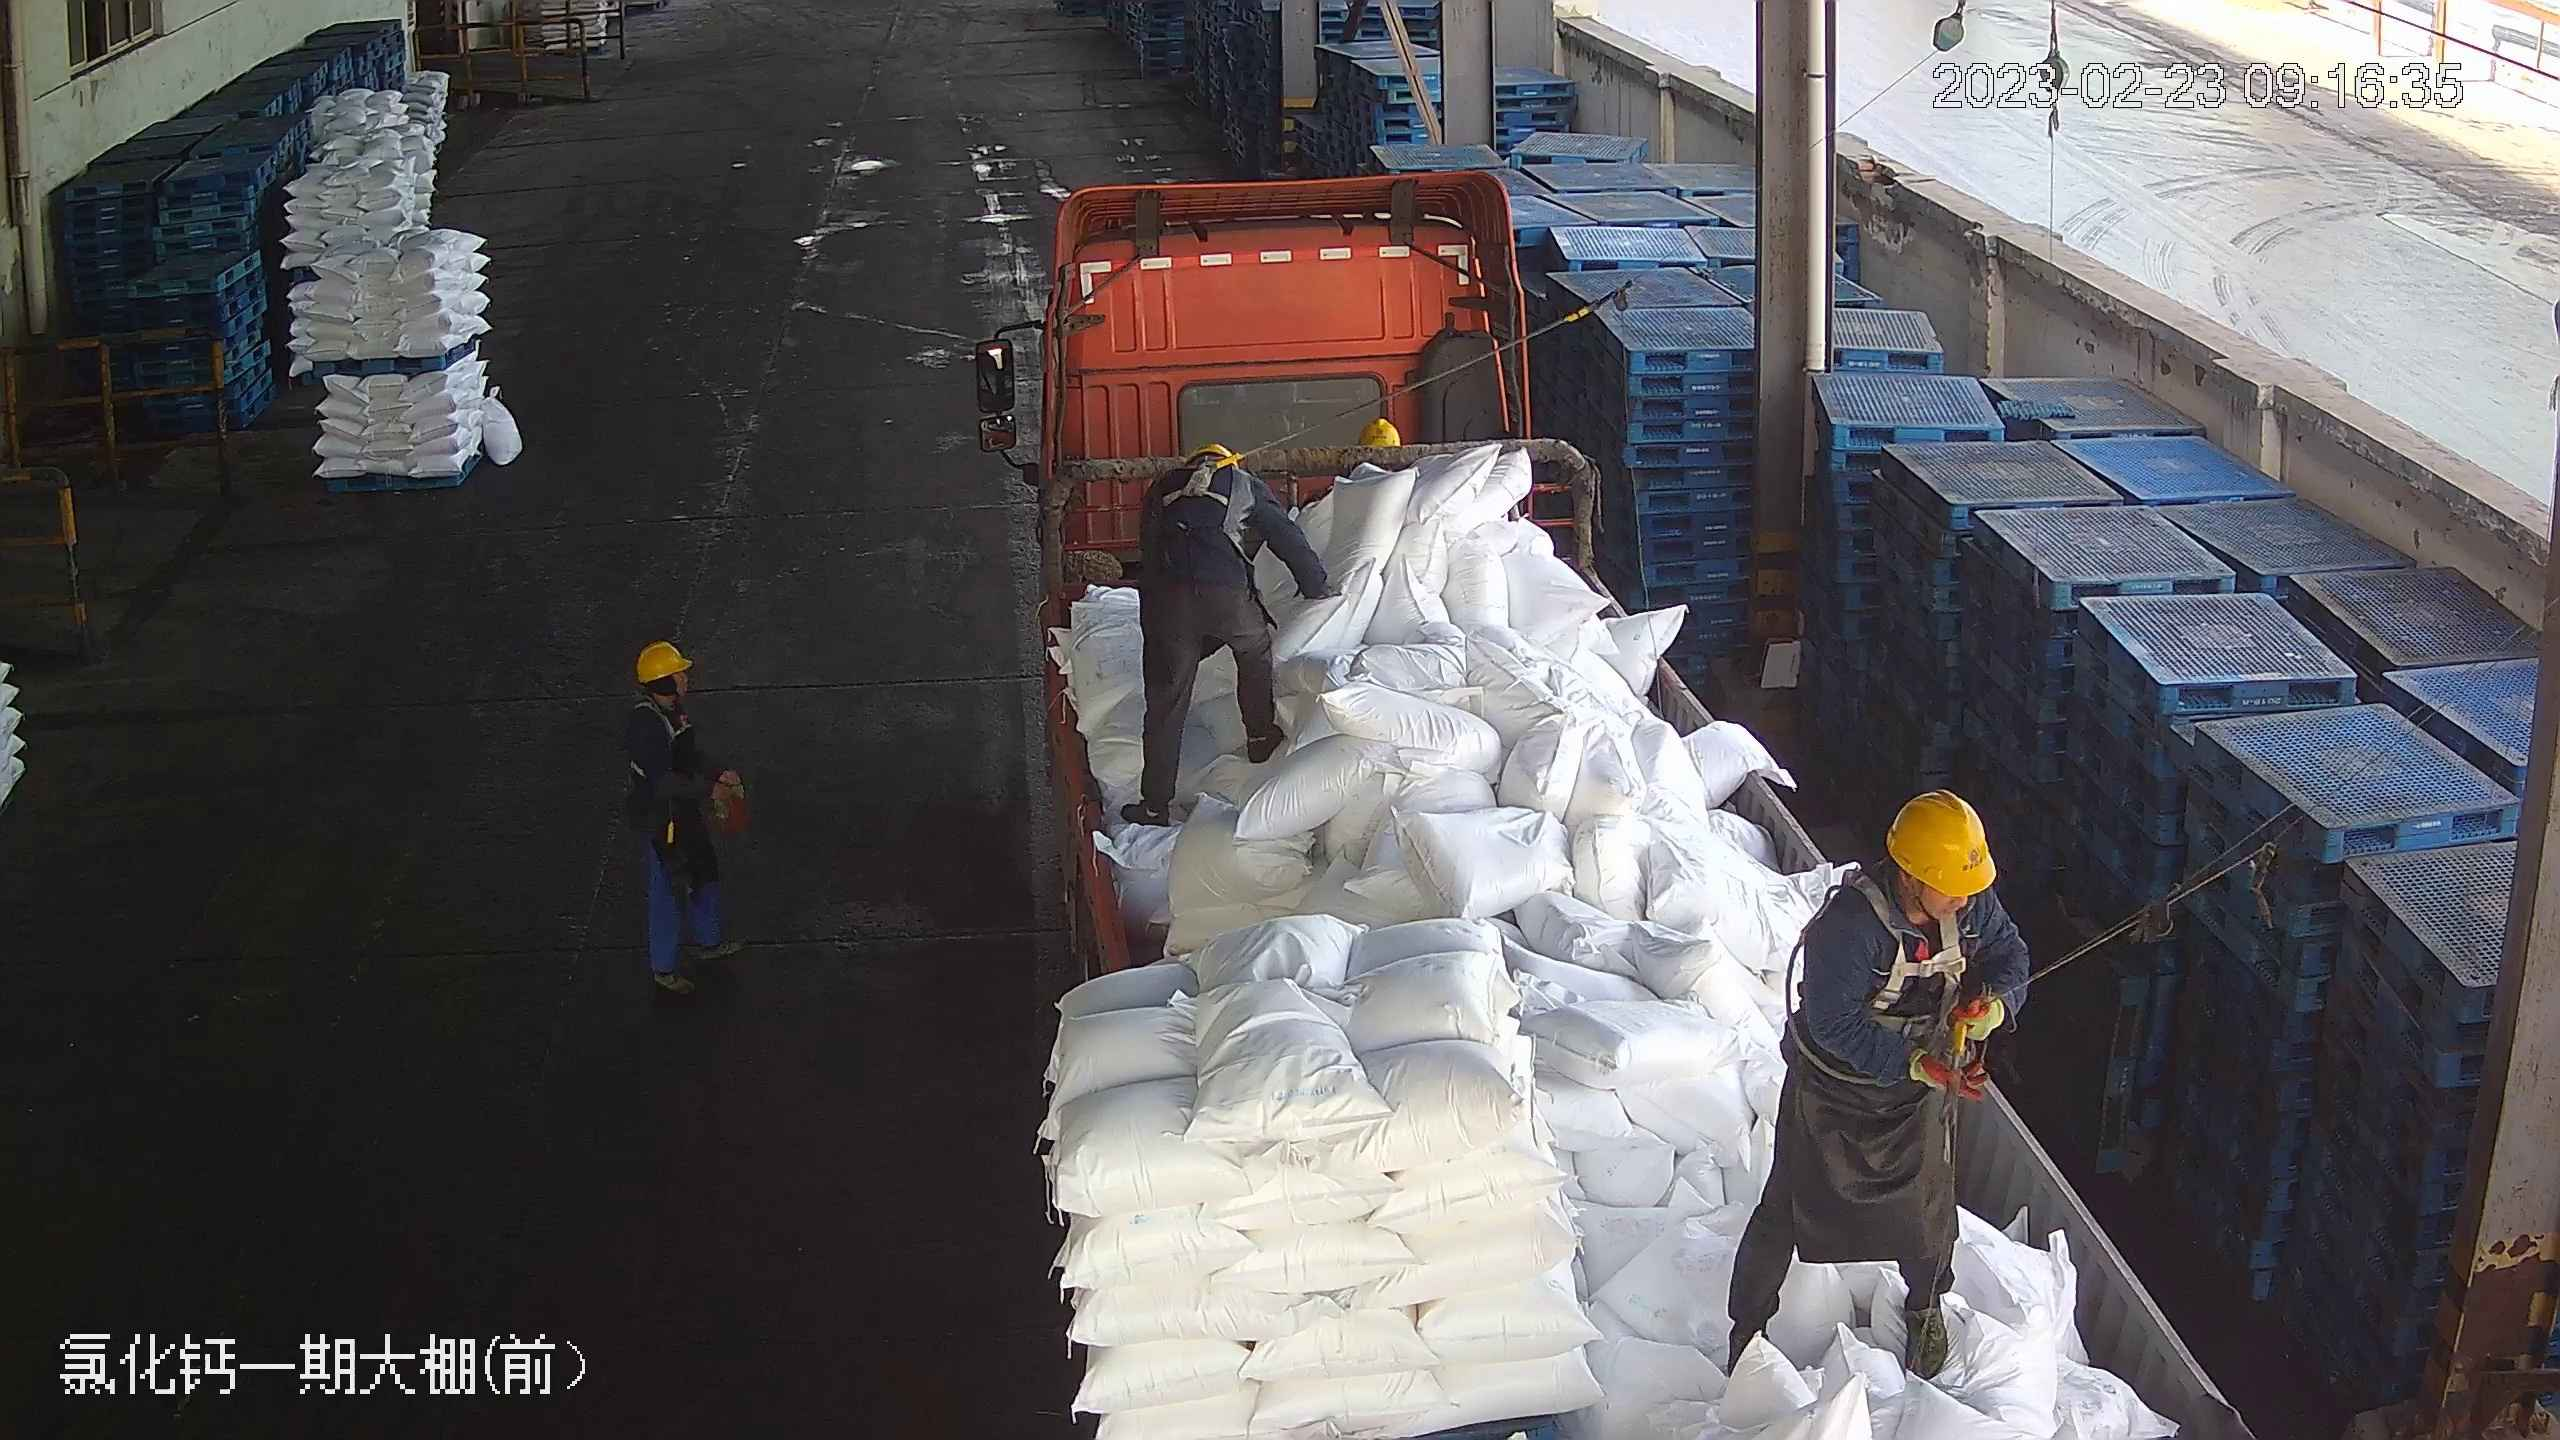belt: (1847, 911, 1985, 1076), (1167, 455, 1244, 522), (637, 698, 703, 740)
head: (1814, 786, 2019, 981), (621, 638, 715, 746)
helmet: (1885, 787, 2000, 894), (632, 639, 693, 683), (1357, 413, 1408, 449)
people: (1718, 780, 2027, 1381), (1120, 442, 1331, 830), (611, 639, 753, 999)
truck: (970, 168, 2261, 1434)
